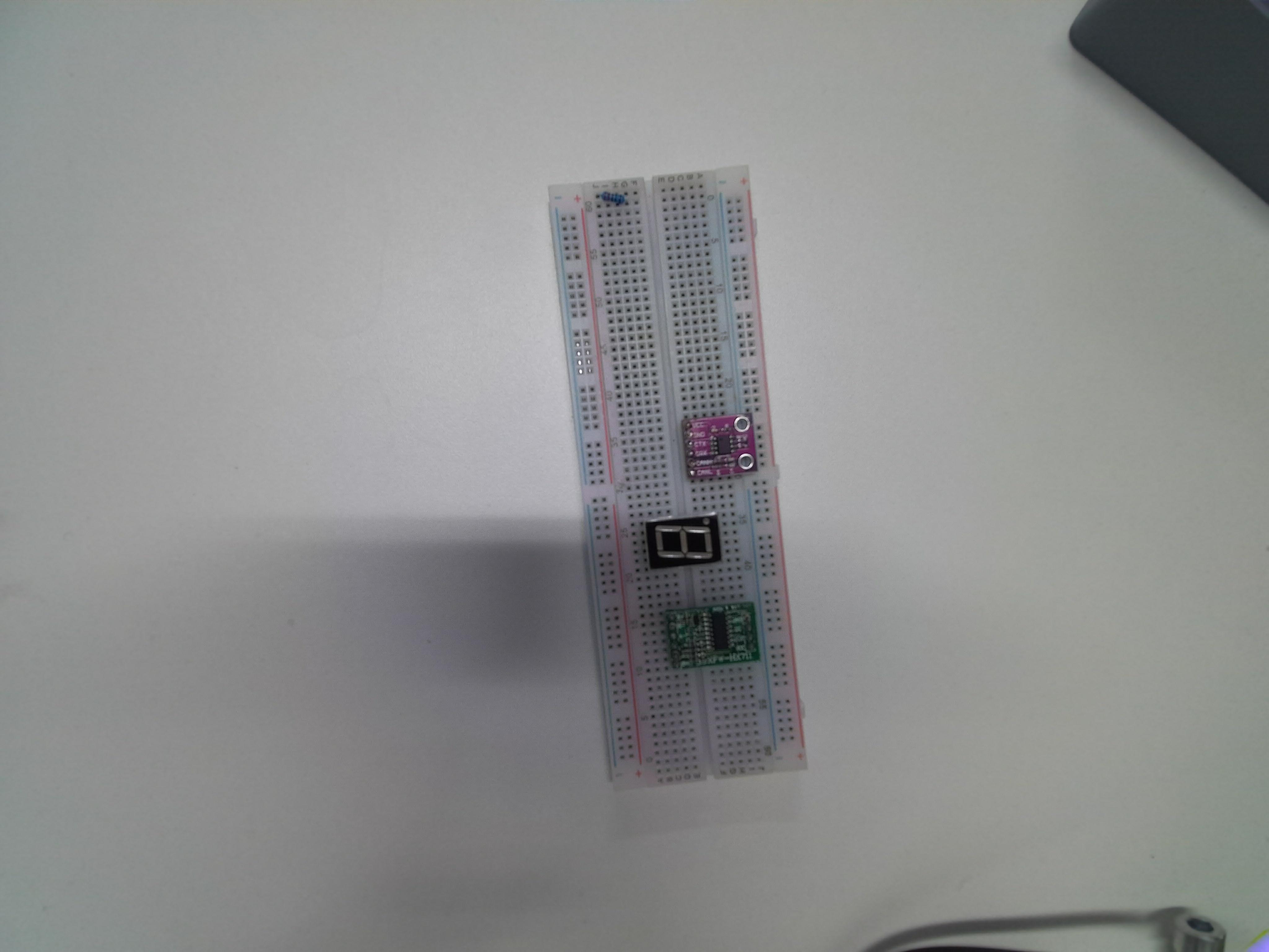base: (540, 158, 810, 797)
digit-board: (643, 512, 724, 572)
green-board: (663, 598, 764, 671)
purple-board: (675, 403, 763, 486)
resistor-small: (593, 186, 628, 210)
